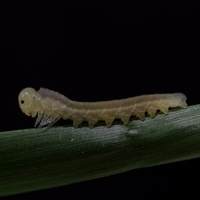insect: (18, 87, 186, 127)
